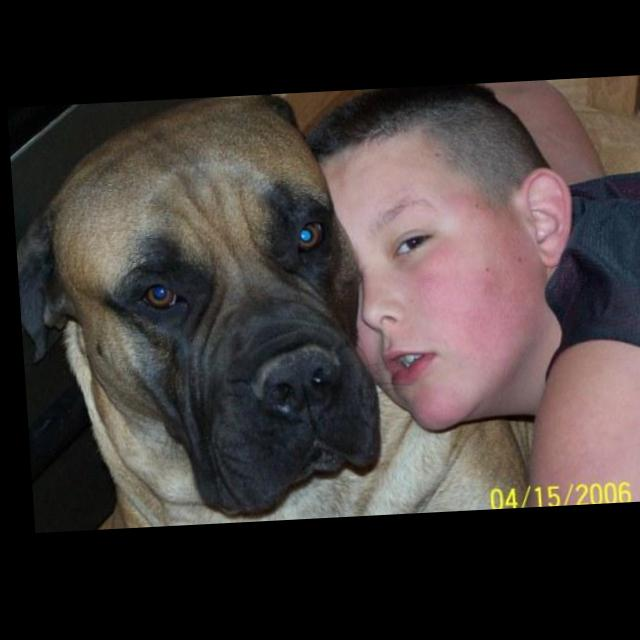bullmastiff: (7, 88, 534, 533)
face: (317, 129, 553, 440)
person: (301, 82, 640, 522)
